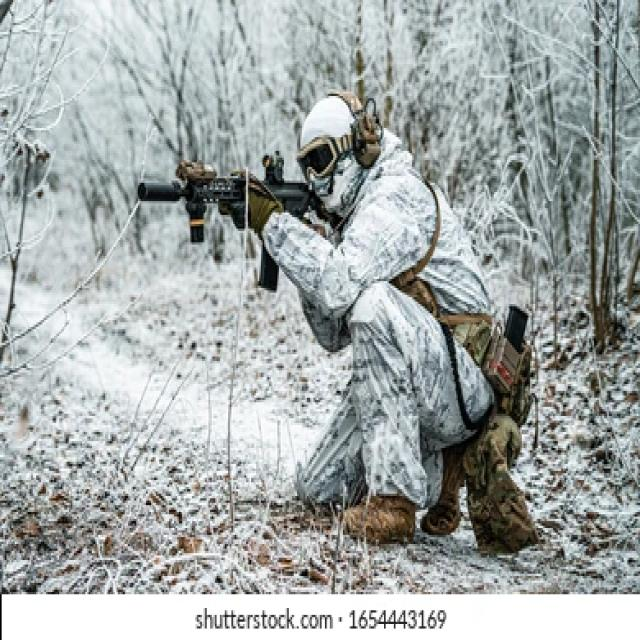soldier: (138, 84, 540, 559)
